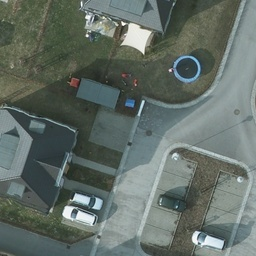car: (193, 228, 226, 252), (60, 205, 97, 224), (158, 193, 187, 214), (72, 193, 102, 211)
